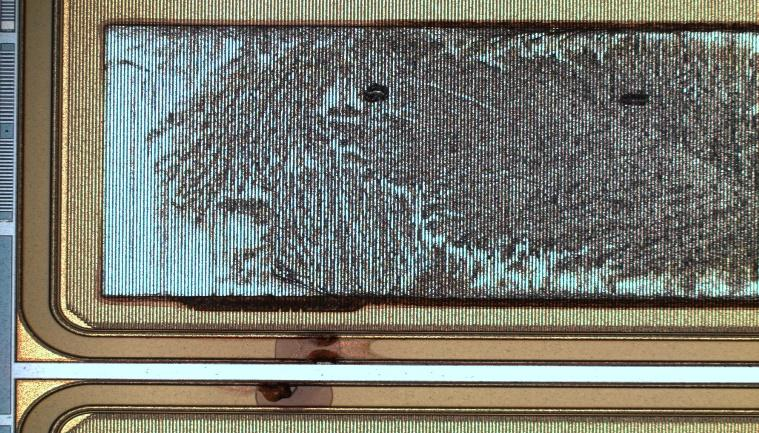SEZ BURNT: (59, 2, 759, 338)
